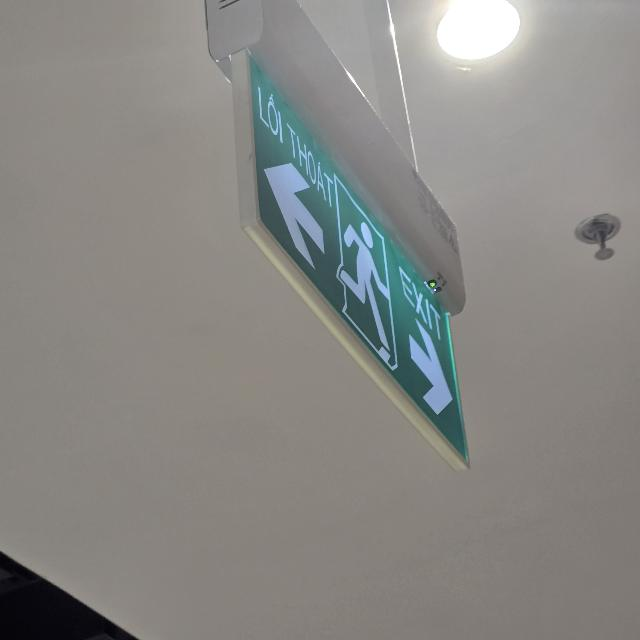exit: (249, 59, 468, 464)
